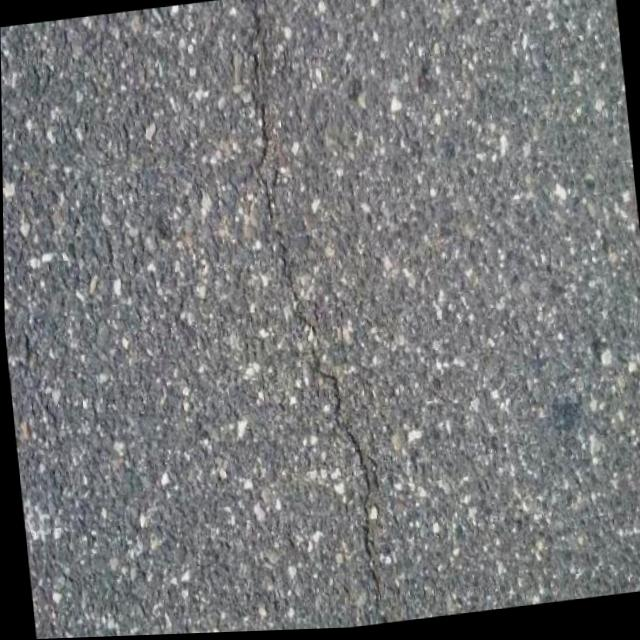Crack: (233, 0, 391, 633)
